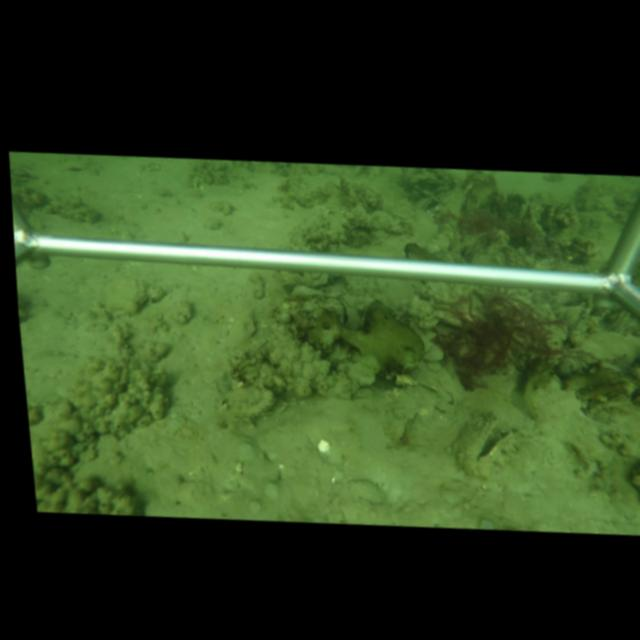Oyster-Closed: (99, 272, 147, 316), (433, 305, 464, 328), (354, 188, 369, 213)
Oyster-Indeterminate: (220, 384, 275, 419), (460, 179, 496, 214)
Oyster-Open: (466, 414, 518, 465)
